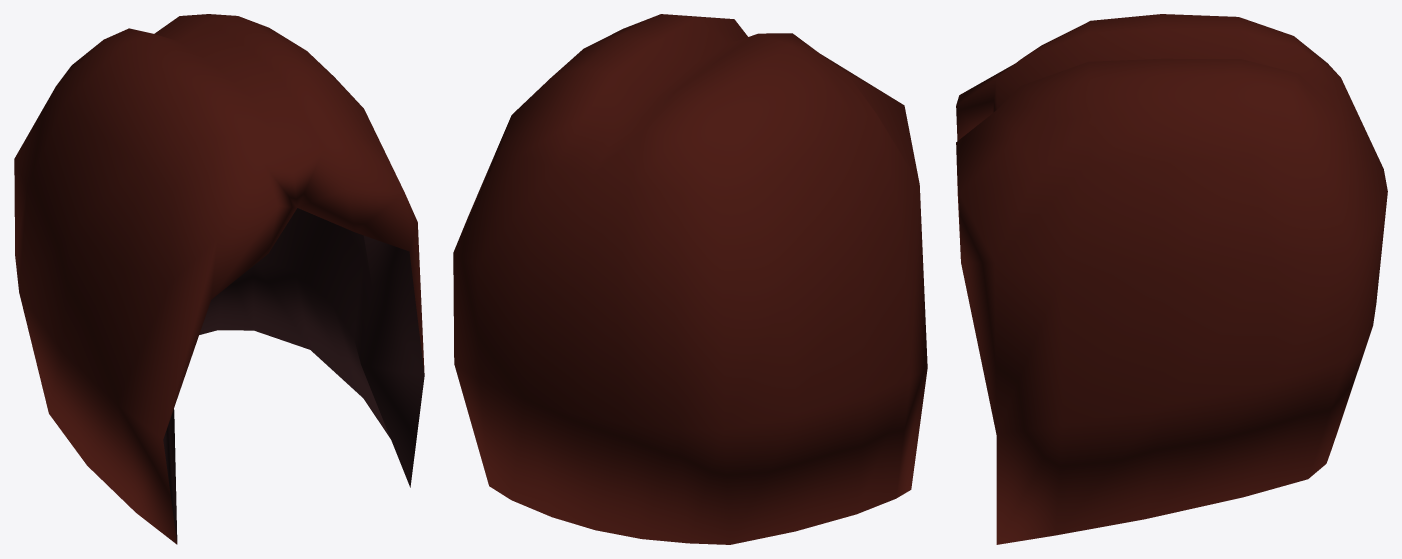
The model's file is hairBobcut.fbx.
3 renders of one model, left to right at view 1: azimuth 30°, elevation 25°; view 2: azimuth 150°, elevation 25°; view 3: azimuth 270°, elevation 25°, orthographic. The views are drawn at different scales.
Visible parts, largest first — view 1: hairBobcut; view 2: hairBobcut; view 3: hairBobcut.
Part boxes in pixels (box(x1,y1,x2,y2)): hairBobcut: box(14, 14, 424, 544); hairBobcut: box(453, 14, 927, 544); hairBobcut: box(956, 14, 1387, 544).
Bounding box in the file's own units: 102 × 128 × 114.
